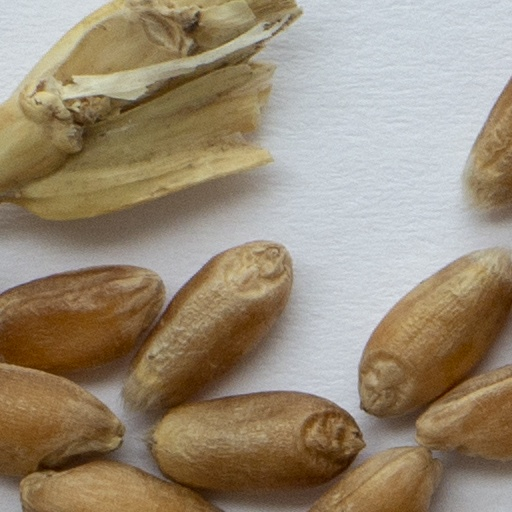Peel-poly: (0, 0, 306, 225)
